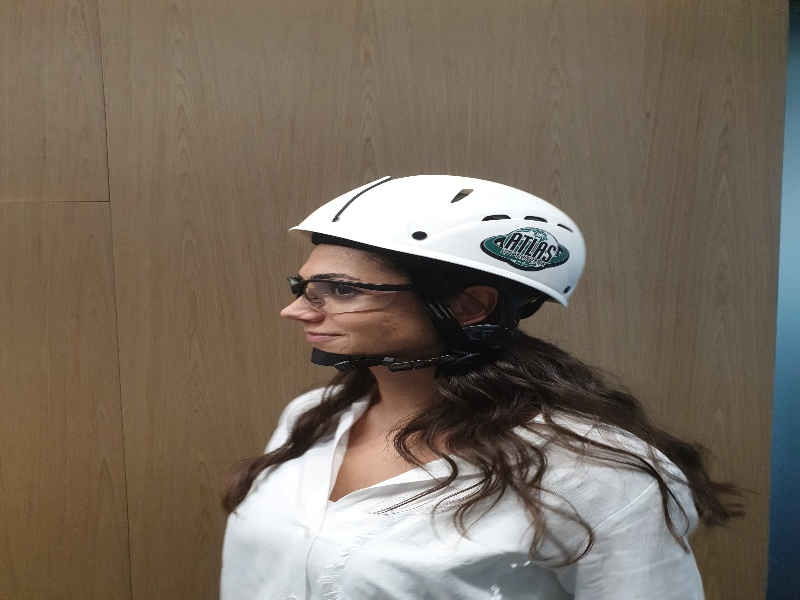Baret: (290, 159, 593, 297)
Gozluk: (280, 266, 424, 314)
